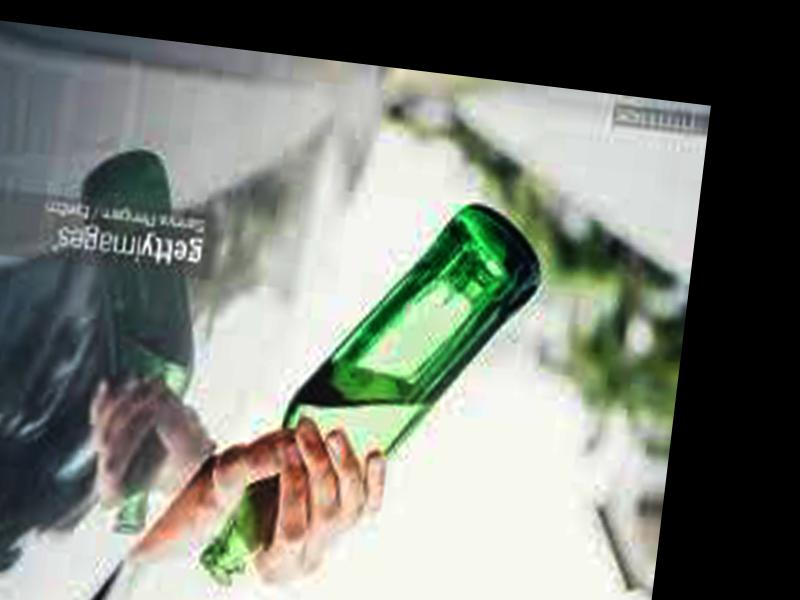Beer: (194, 177, 547, 600)
